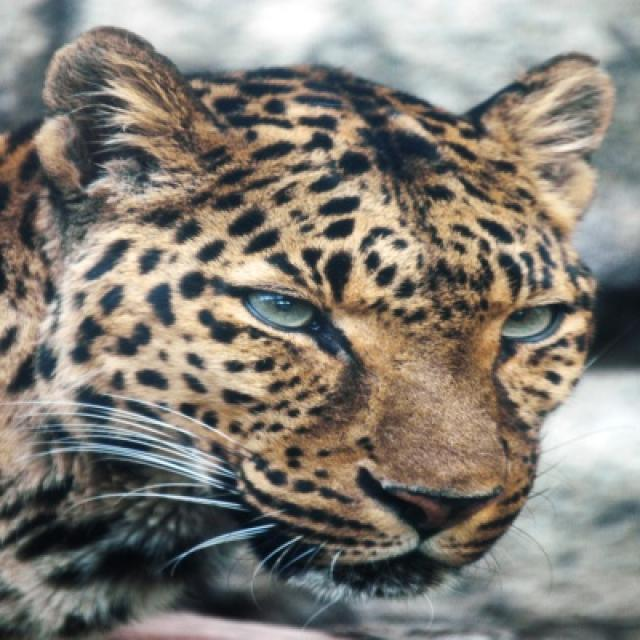Jaguar: (0, 26, 616, 638)
